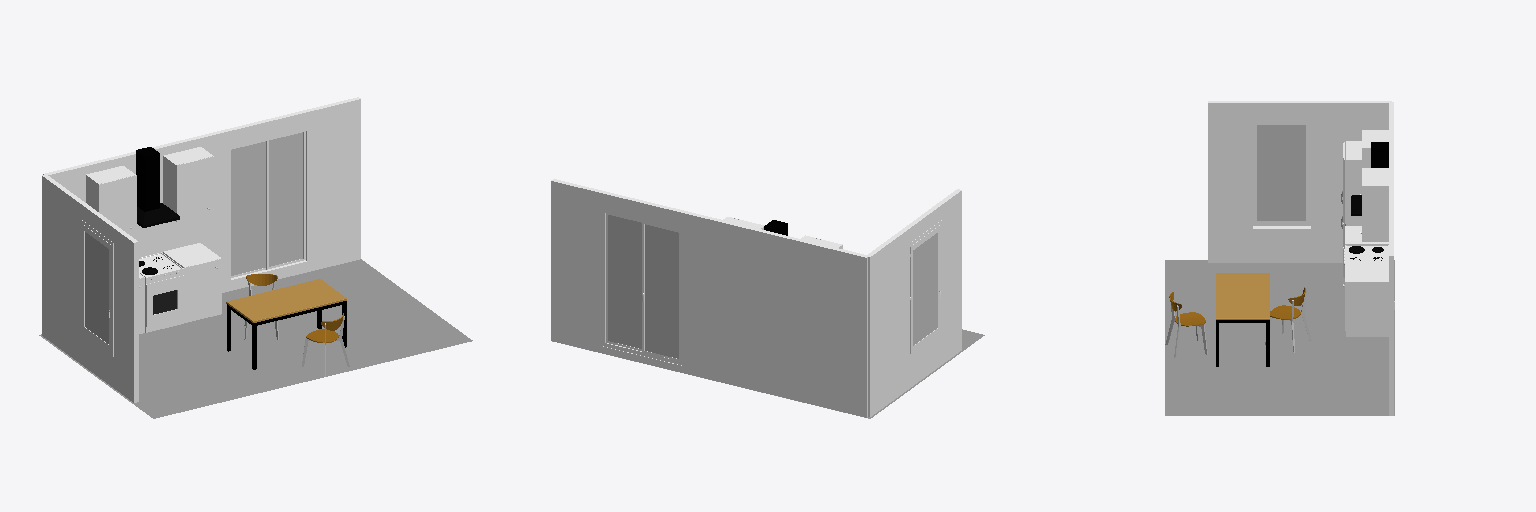
File: Kitchen Models.obj
3 renders of one model, left to right at view 1: azimuth 30°, elevation 25°; view 2: azimuth 150°, elevation 25°; view 3: azimuth 270°, elevation 25°, orthographic.
Parts seen in each view (by area): view 1: ground_1, wall_1_5, wall_2_11, sweethome3d_window_pane_on_rail_1_52, sweethome3d_window_pane_on_rail_2_54, Table_16, sweethome3d_window_pane_on_hinge_1_87, sweethome3d_opening_on_hinge_1_door_67, sweethome3d_opening_on_hinge_1_door_97, sweethome3d_opening_on_hinge_1_door_57, window_frame_47, Chimney_94 (+9 smaller); view 2: wall_1_4, wall_2_11, sweethome3d_window_pane_on_rail_1_52, sweethome3d_window_pane_on_rail_2_54, sweethome3d_window_pane_on_hinge_1_87, window_frame_47, sweethome3d_opening_on_hinge_1_86, sweethome3d_opening_on_rail_1_51; view 3: ground_1, wall_2_10, sweethome3d_window_pane_on_hinge_1_87, Corps_95, Table_16, Corps_65, frame_81, sweethome3d_opening_on_hinge_1_86, Corps_70, Corps_32_24.
Part boxes in pixels (x1,y1,x2,y2): ground_1: (39, 259, 472, 418); wall_1_5: (48, 99, 360, 292); wall_2_11: (42, 176, 135, 402); sweethome3d_window_pane_on_rail_1_52: (231, 141, 265, 275); sweethome3d_window_pane_on_rail_2_54: (269, 132, 302, 266); Table_16: (226, 279, 346, 322); sweethome3d_window_pane_on_hinge_1_87: (85, 232, 108, 343); sweethome3d_opening_on_hinge_1_door_67: (176, 156, 213, 221); sweethome3d_opening_on_hinge_1_door_97: (185, 259, 221, 316); sweethome3d_opening_on_hinge_1_door_57: (99, 175, 136, 233); window_frame_47: (228, 127, 310, 284); Chimney_94: (136, 147, 159, 211); wall_1_4: (551, 181, 867, 417); wall_2_11: (868, 191, 961, 416); sweethome3d_window_pane_on_rail_1_52: (645, 224, 678, 358); sweethome3d_window_pane_on_rail_2_54: (608, 215, 641, 348); sweethome3d_window_pane_on_hinge_1_87: (913, 233, 937, 345); window_frame_47: (602, 209, 684, 365); sweethome3d_opening_on_hinge_1_86: (910, 225, 940, 353); sweethome3d_opening_on_rail_1_51: (642, 222, 680, 360); ground_1: (1165, 260, 1394, 415); wall_2_10: (1208, 103, 1388, 262); sweethome3d_window_pane_on_hinge_1_87: (1257, 125, 1305, 220); Corps_95: (1346, 263, 1388, 336); Table_16: (1216, 273, 1269, 319); Corps_65: (1363, 168, 1388, 241); frame_81: (1249, 118, 1314, 231); sweethome3d_opening_on_hinge_1_86: (1253, 121, 1310, 225); Corps_70: (1346, 141, 1361, 225); Corps_32_24: (1346, 245, 1387, 262).
Size of the model in its own units: 510 by 250 by 317.